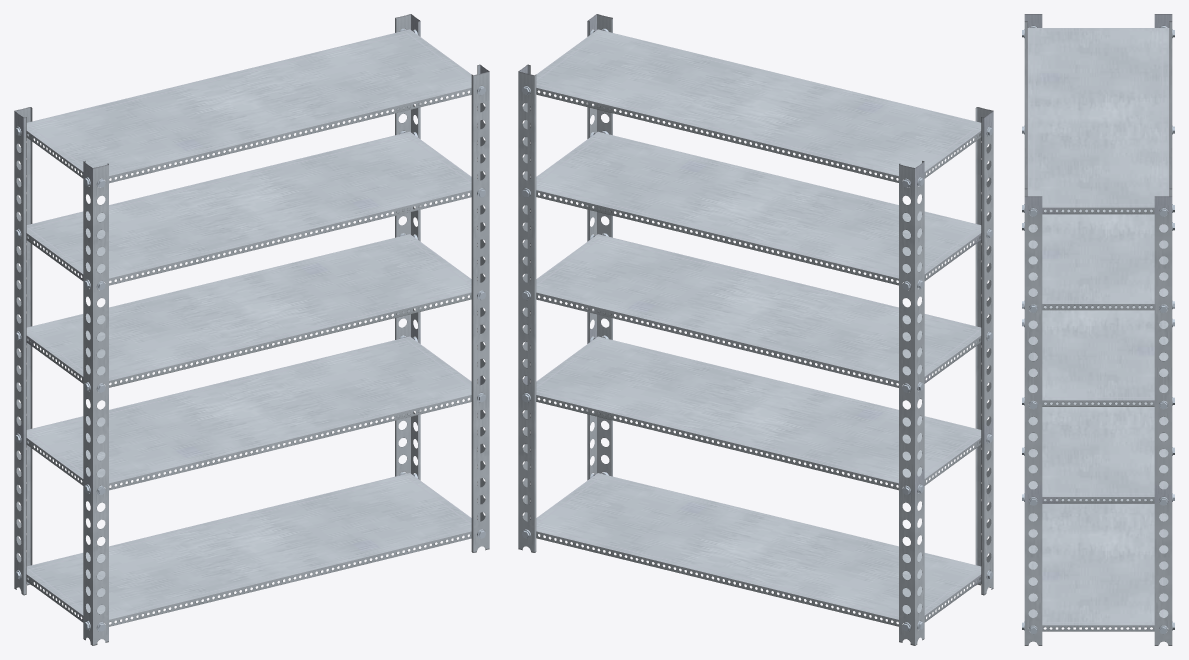
File: stainless_steel_shelving.glb
3 renders of one model, left to right at view 1: azimuth 30°, elevation 25°; view 2: azimuth 150°, elevation 25°; view 3: azimuth 270°, elevation 25°, orthographic. The views are drawn at different scales.
Parts seen in each view (by area): view 1: Material2 (×3); view 2: Material2 (×3); view 3: Material2 (×3).
Boxes of the visible parts, box(x1,y1,x2,y2) form: Material2 (×3): box(14, 14, 489, 645); Material2 (×3): box(518, 14, 993, 645); Material2 (×3): box(1022, 14, 1174, 645).
Size of the model in its own units: 73.88 by 84 by 25.88.
3 materials, 2 textured.
